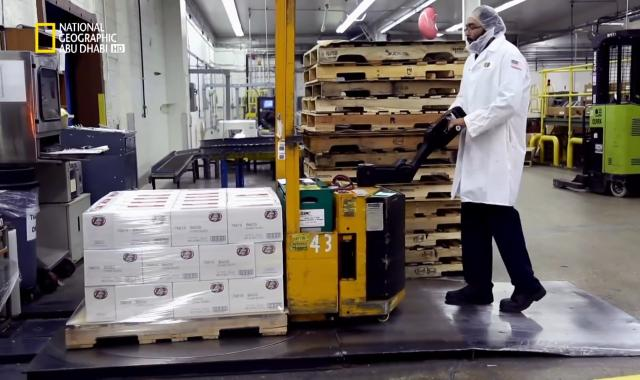hairnet: (463, 3, 506, 52)
